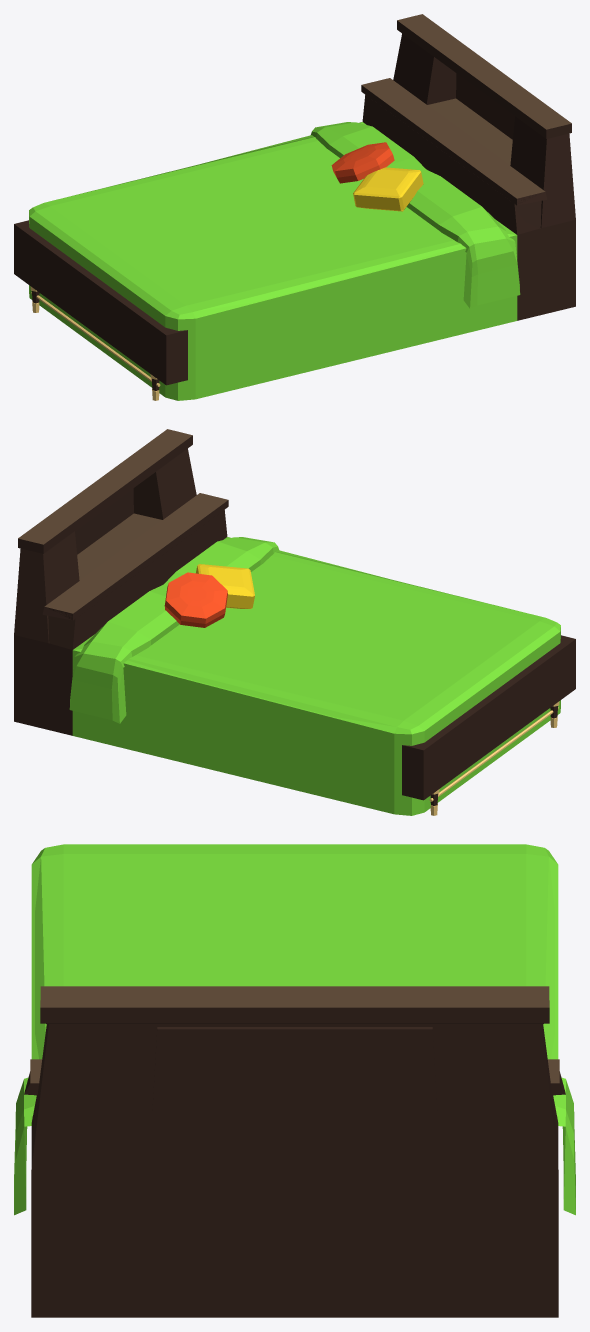
Rendered from кровать спальня.fbx.
The picture shows the model from 3 angles, top to bottom: view 1: azimuth 30°, elevation 25°; view 2: azimuth 150°, elevation 25°; view 3: azimuth 270°, elevation 25°; orthographic projection. The views are drawn at different scales.
Parts seen in each view (by area): view 1: Cube.074; view 2: Cube.074; view 3: Cube.074.
Part boxes in pixels (x1,y1,x2,y2): Cube.074: [14, 14, 575, 400]; Cube.074: [14, 429, 575, 815]; Cube.074: [14, 844, 575, 1317].
Bounding box in the file's own units: 3102 × 1368 × 2167.
